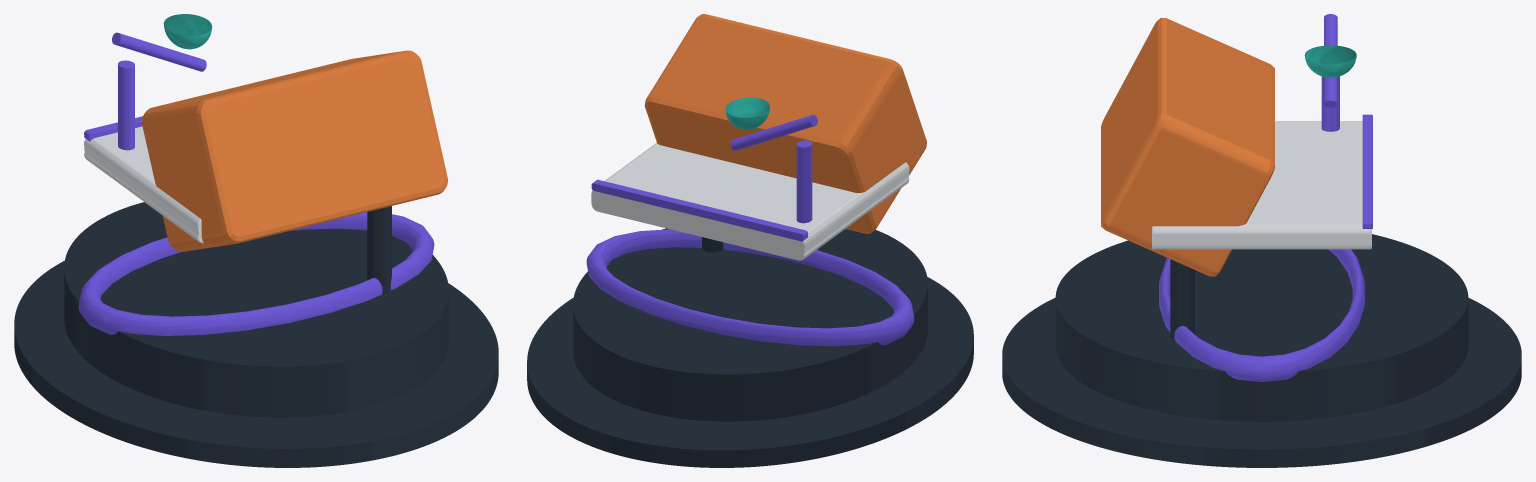
The model's file is 0347_航空航天图鉴_战斗机飞行服.glb.
The picture shows the model from 3 angles, left to right: view 1: azimuth 30°, elevation 25°; view 2: azimuth 150°, elevation 25°; view 3: azimuth 270°, elevation 25°; orthographic projection. The views are drawn at different scales.
Visible parts, largest first — view 1: card_0347; view 2: card_0347; view 3: card_0347.
Part boxes in pixels (box(x1,y1,x2,y2)): card_0347: box(14, 14, 498, 467); card_0347: box(527, 14, 973, 467); card_0347: box(1002, 14, 1521, 467).
Bounding box in the file's own units: 1.3 × 1 × 1.51.
